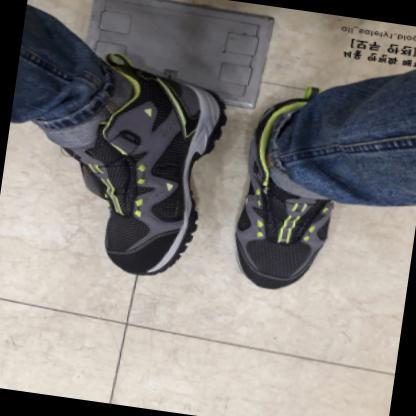safety-shoe: (38, 57, 233, 286), (225, 99, 360, 302)
